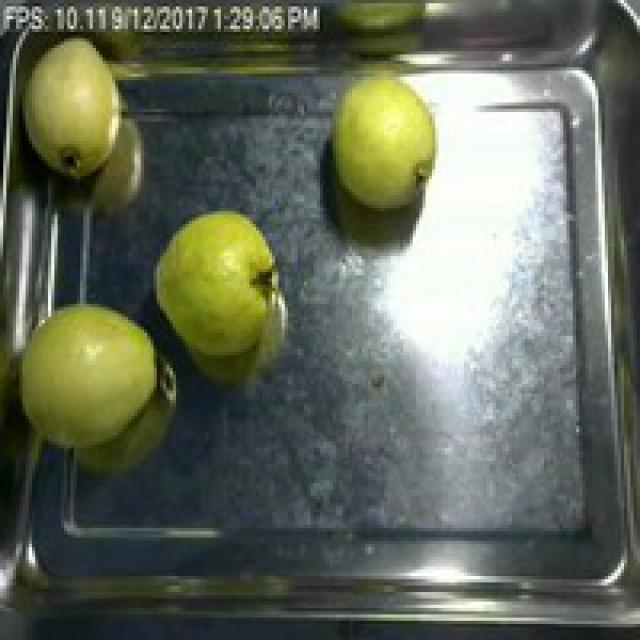Fruit: (3, 291, 173, 461), (0, 16, 144, 192), (144, 202, 288, 368), (310, 61, 454, 221)
